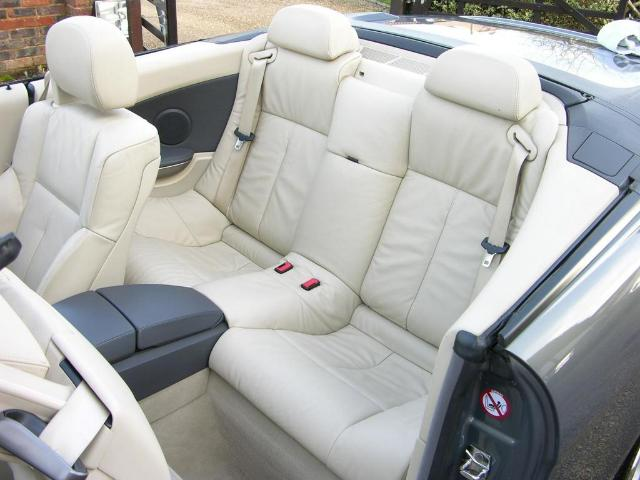Seatbelt: (459, 137, 525, 312), (13, 380, 112, 480), (213, 58, 269, 216)
